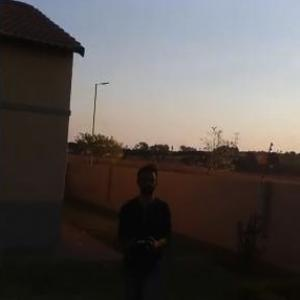follow: (110, 161, 178, 299)
